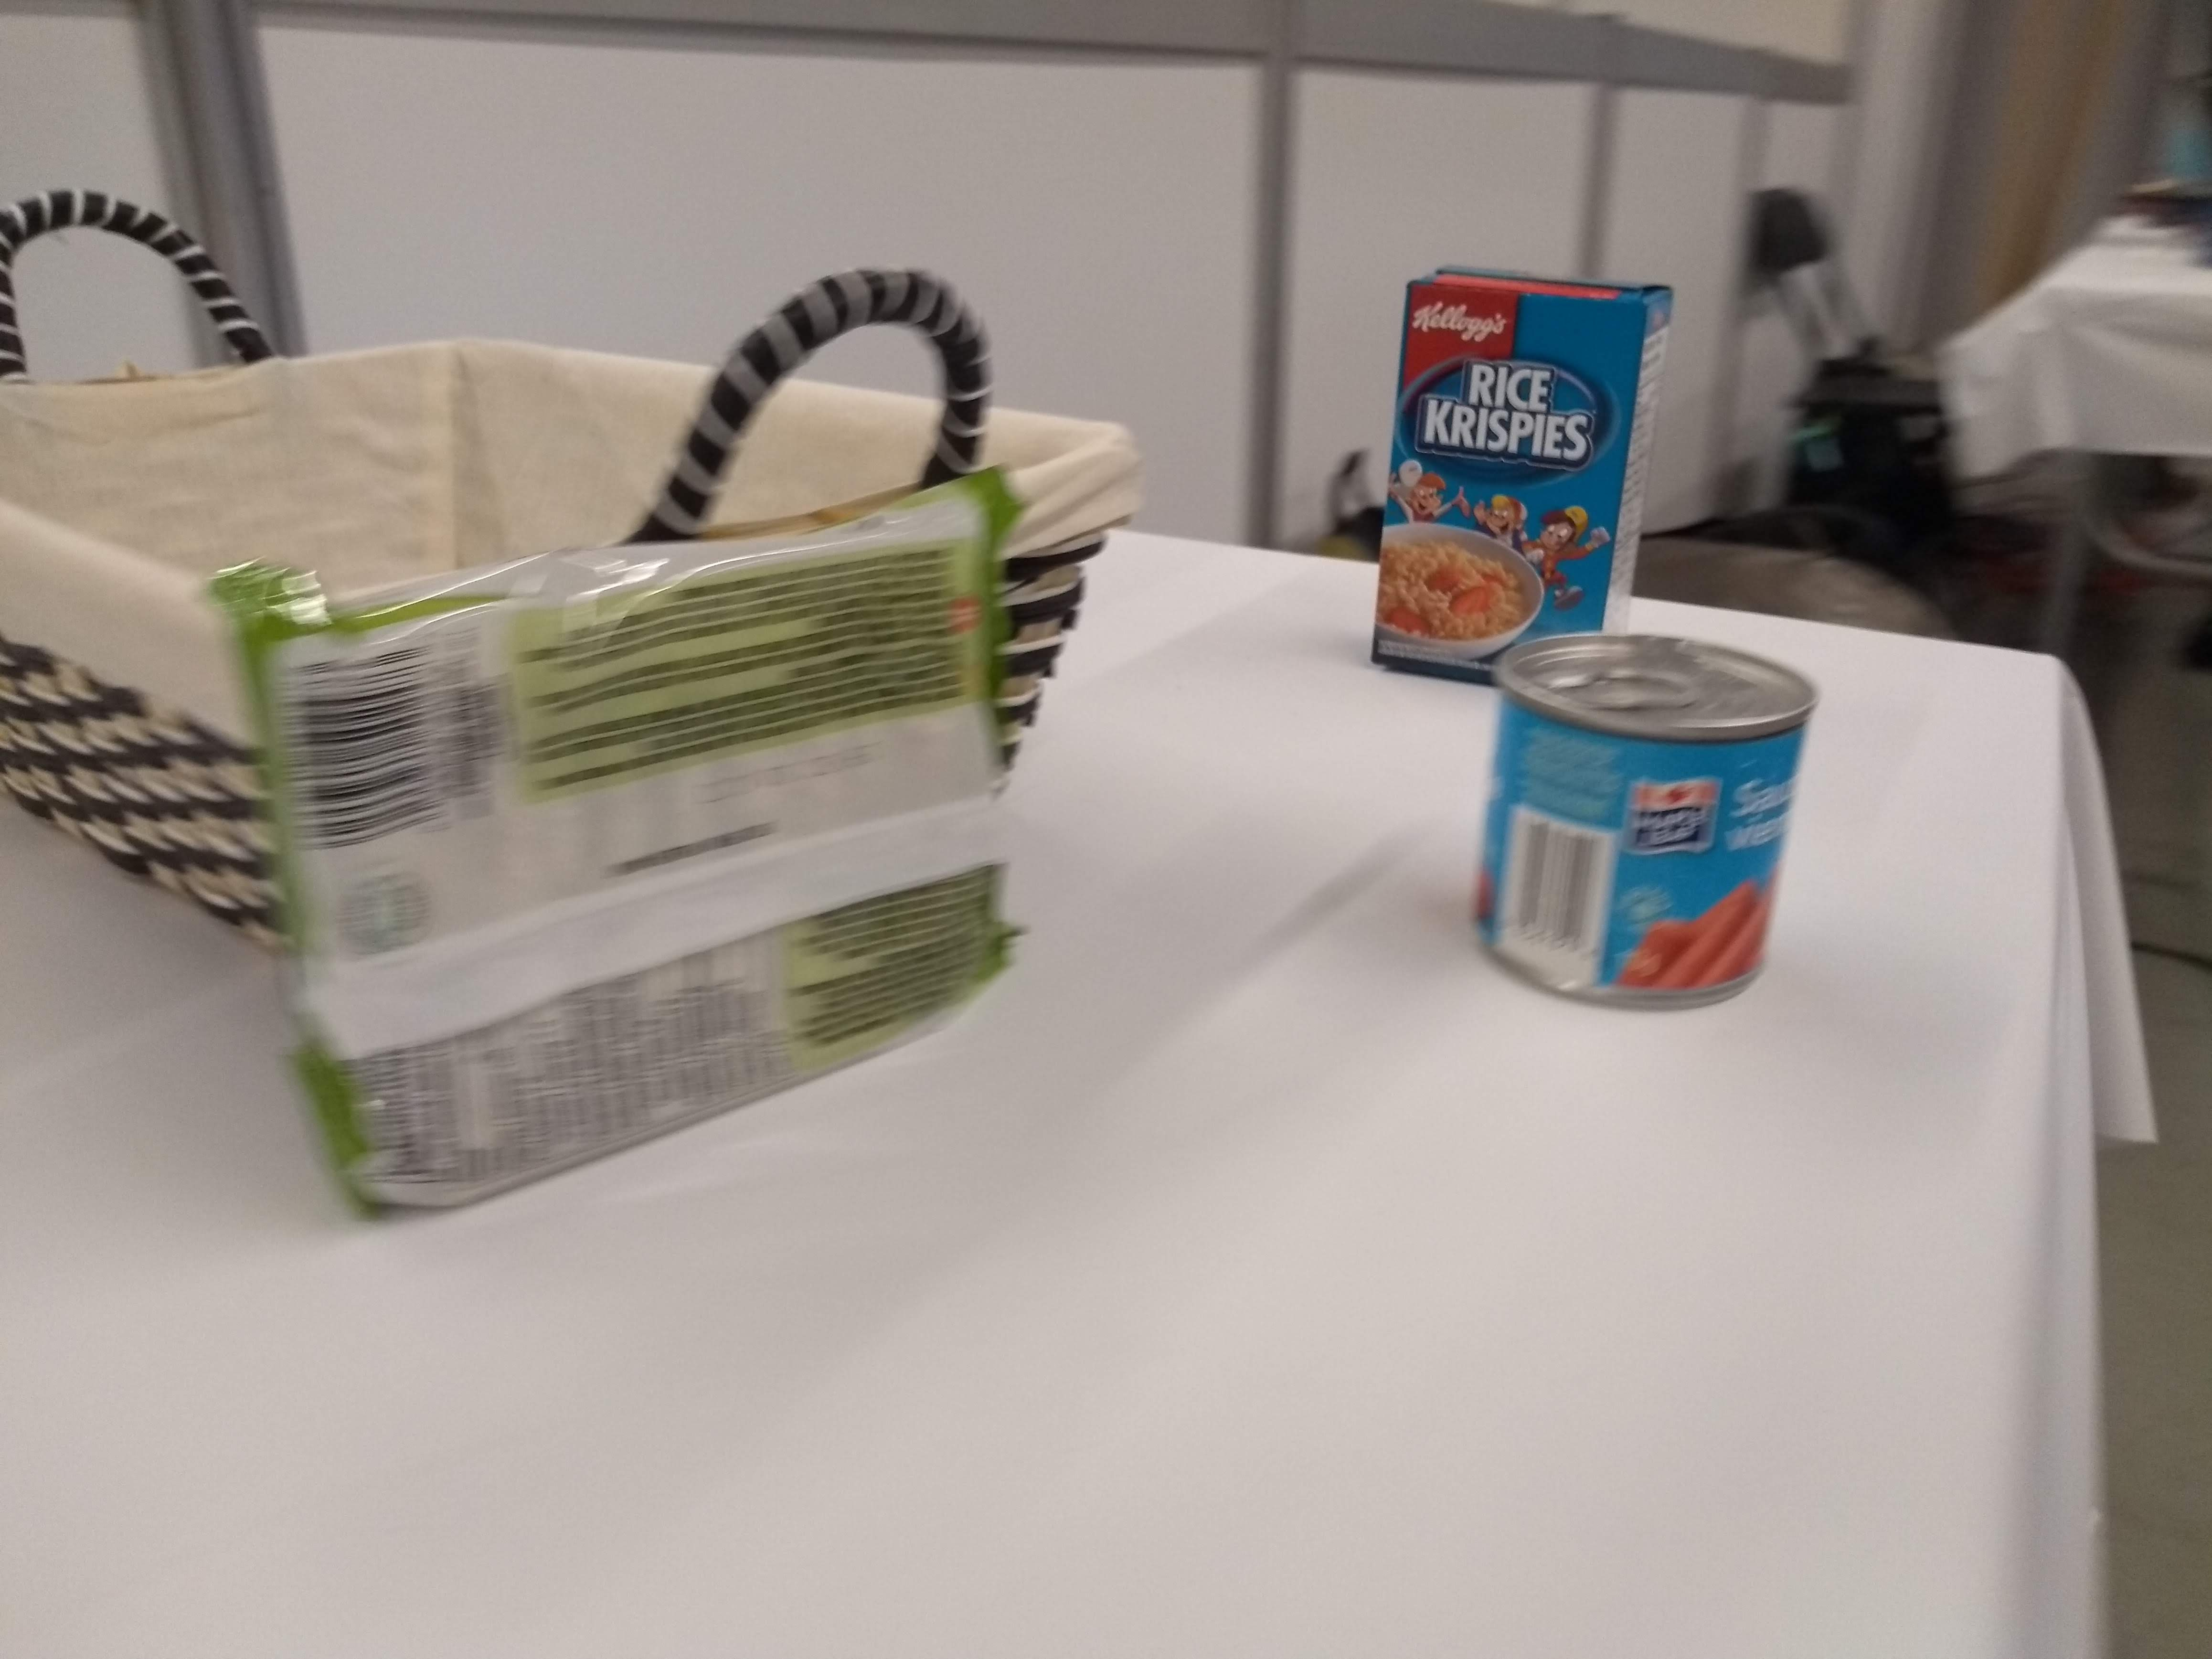cereal: (1355, 249, 1689, 716)
noodles: (200, 451, 1029, 1246)
sausages: (1460, 622, 1831, 1030)
